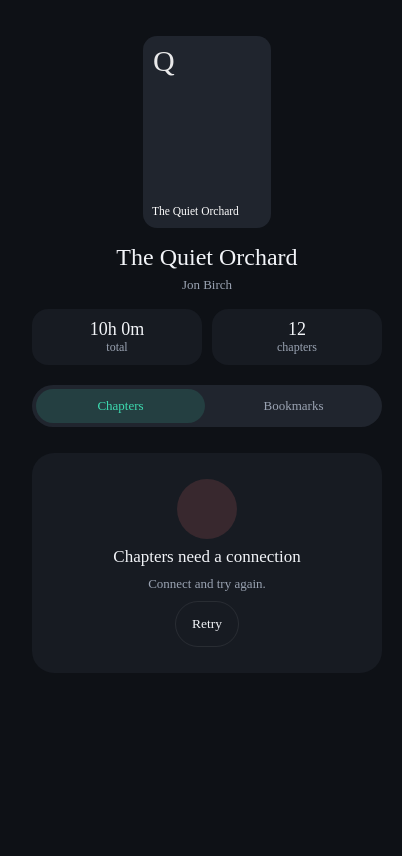
Book › offers Retry when chapters cannot be loaded
The image size is (402, 856).
Click the button "Retry".
click(207, 624)  # box [175, 601, 239, 647]
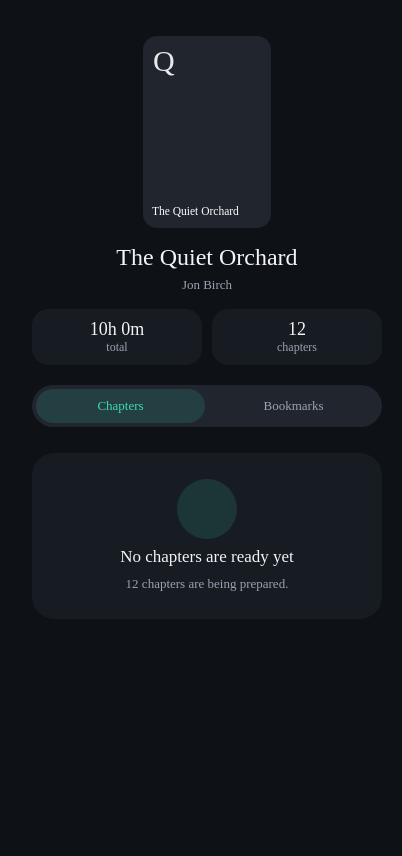
Expected: the text "No chapters are ready yet" is shown, [120, 547, 294, 567]
